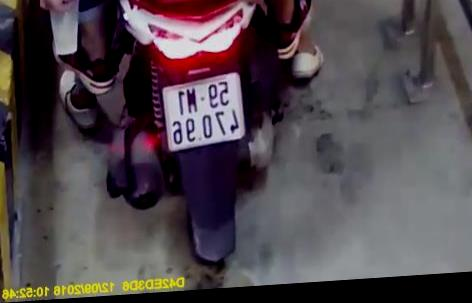License_Plate: (159, 64, 252, 159)
